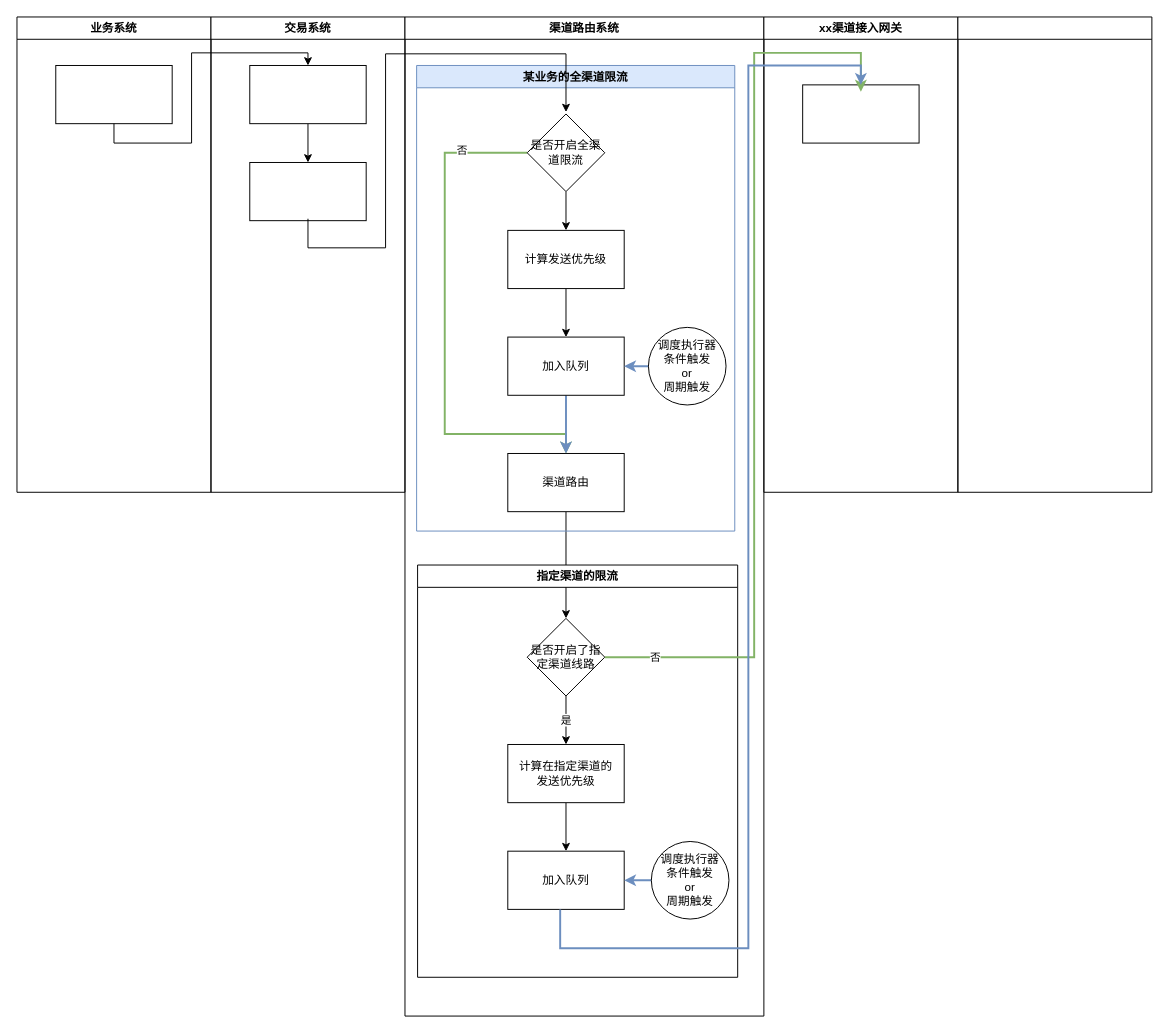
Some shapes in this 1169 by 1033 pixel diagram are drawn without their labels. Here are the shapes that lost their labels. From the top down, the centre of each, then its label:
At (113,94): "提现申请单".
At (307,94): "创建交易主单".
At (860,113): "创建渠道单 状态：pending".
At (307,191): "创建支付子单".
At (1054,254): "渠道".
